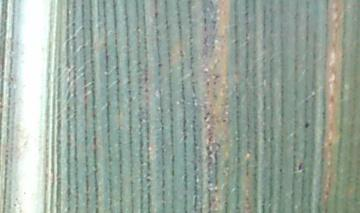tarspot: (297, 161, 306, 174), (302, 120, 310, 131), (326, 139, 334, 150), (152, 11, 159, 21), (157, 61, 164, 70), (303, 98, 310, 106), (243, 10, 250, 18), (213, 73, 222, 79), (202, 115, 209, 122), (220, 118, 228, 124), (278, 166, 284, 174), (143, 76, 149, 84), (232, 38, 238, 46), (205, 110, 211, 117), (234, 94, 240, 101), (204, 80, 210, 87), (211, 79, 217, 86), (71, 21, 77, 27), (244, 20, 249, 25)
